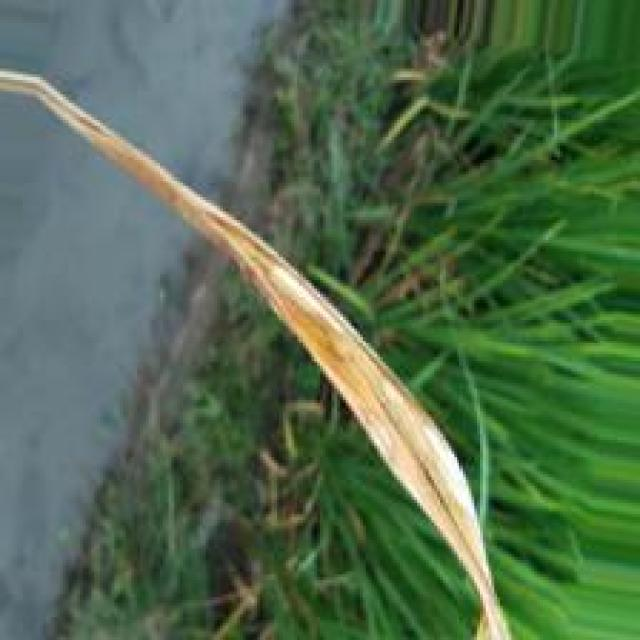Leaf_Scald: (125, 154, 508, 637)
